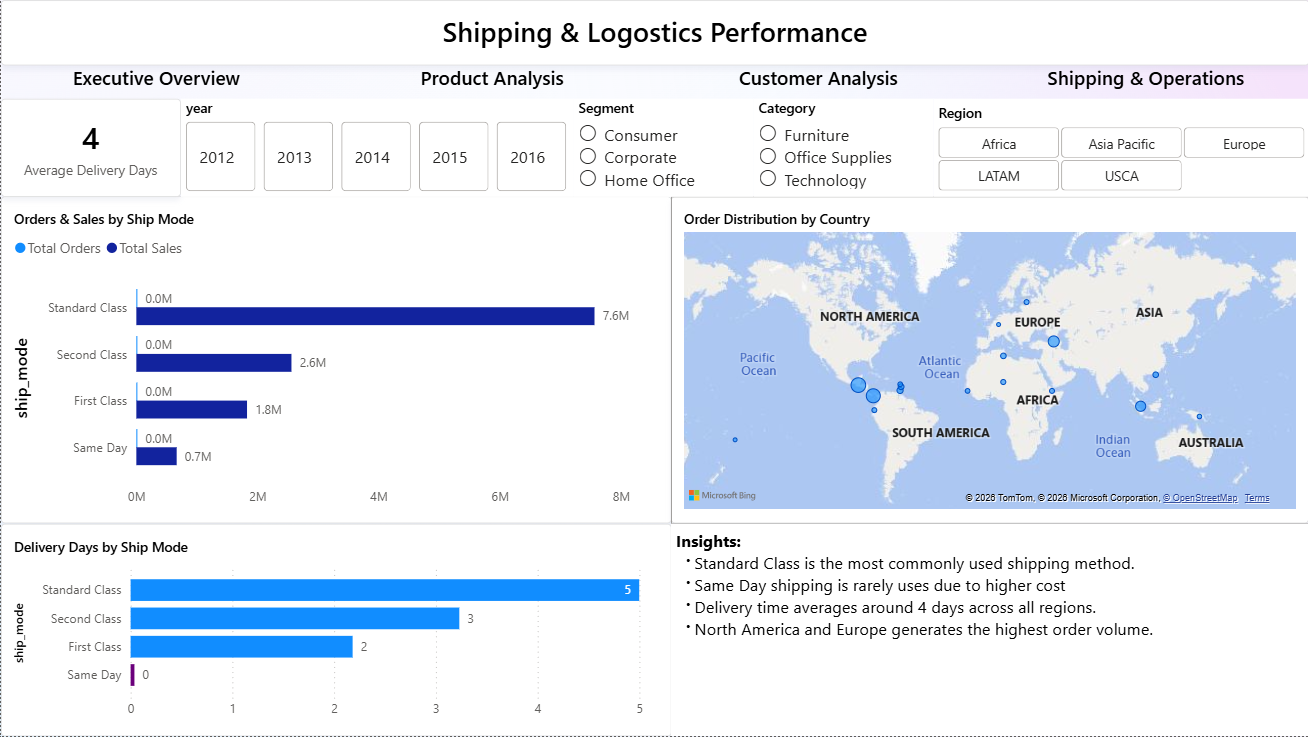

Layout of this report page (visuals, bound fields, positions):
{"tool":"powerbi","page":{"name":"Shipping & Operations","canvas":[1280,720],"ordinal":3},"visuals":[{"type":"clusteredBarChart","title":"Orders & Sales by Ship Mode","fields":{"Category":["dim_ship_mode.ship_mode"],"Y":["BaseMeasures.Total Orders","BaseMeasures.Total Sales"]},"box":[0,192,656,320],"z":0},{"type":"card","fields":{"Values":["BaseMeasures.Average Delivery Days"]},"box":[0,96,176,96],"z":1000},{"type":"map","title":"Order Distribution by Country","fields":{"Category":["dim_geo.market Hierarchy.market","dim_geo.market Hierarchy.region","dim_geo.market Hierarchy.country","dim_geo.market Hierarchy.state","dim_geo.market Hierarchy.city"],"Size":["BaseMeasures.Total Orders"]},"box":[656,192,624,320],"z":2000},{"type":"barChart","title":"Delivery Days by Ship Mode","fields":{"Category":["dim_ship_mode.ship_mode"],"Y":["BaseMeasures.Average Delivery Days"]},"box":[0,512,656,208],"z":3000},{"type":"card","fields":{"Values":["BaseMeasures.Shipping Title"]},"box":[0,0,1280,64],"z":4000},{"type":"advancedSlicerVisual","fields":{"Values":["dim_date.year Hierarchy.year"]},"box":[176,96,384,96],"z":5000},{"type":"listSlicer","title":"Segment","fields":{"Values":["dim_customer.segment"]},"box":[560,96,176,96],"z":6000},{"type":"listSlicer","title":"Category","fields":{"Values":["dim_product.category"]},"box":[736,96,176,96],"z":7000},{"type":"advancedSlicerVisual","title":"Region","fields":{"Values":["dim_geo.region"]},"box":[912,96,368,96],"z":8000},{"type":"textbox","box":[656,512,624,208],"z":9000},{"type":"actionButton","title":"Customer Analysis","box":[640,64,320,32],"z":9001},{"type":"actionButton","title":"Shipping & Operations","box":[960,64,320,32],"z":9002},{"type":"actionButton","title":"Executive Overview","box":[0,64,304,32],"z":9003},{"type":"actionButton","title":"Product Analysis","box":[320,64,320,32],"z":9004}]}

Visuals, with their boxes in screenshot pixels (x1, y1, x2, y2), scaled from the page's 1280x720 canvas onto the 1308x737 screenshot:
"Orders & Sales by Ship Mode" clusteredBarChart: bbox=[0, 197, 670, 524]
card - BaseMeasures.Average Delivery Days: bbox=[0, 98, 180, 197]
"Order Distribution by Country" map: bbox=[670, 197, 1307, 524]
"Delivery Days by Ship Mode" barChart: bbox=[0, 524, 670, 736]
card - BaseMeasures.Shipping Title: bbox=[0, 0, 1307, 66]
advancedSlicerVisual - dim_date.year Hierarchy.year: bbox=[180, 98, 572, 197]
"Segment" listSlicer: bbox=[572, 98, 752, 197]
"Category" listSlicer: bbox=[752, 98, 932, 197]
"Region" advancedSlicerVisual: bbox=[932, 98, 1307, 197]
textbox: bbox=[670, 524, 1307, 736]
"Customer Analysis" actionButton: bbox=[654, 66, 981, 98]
"Shipping & Operations" actionButton: bbox=[981, 66, 1307, 98]
"Executive Overview" actionButton: bbox=[0, 66, 311, 98]
"Product Analysis" actionButton: bbox=[327, 66, 654, 98]
